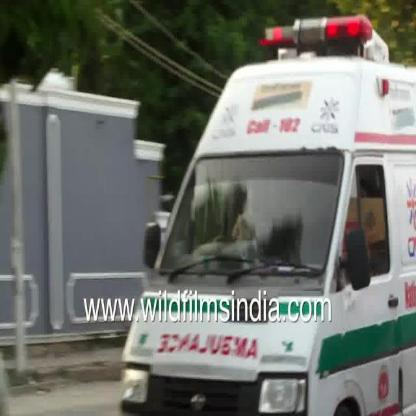priority: (116, 4, 416, 416)
